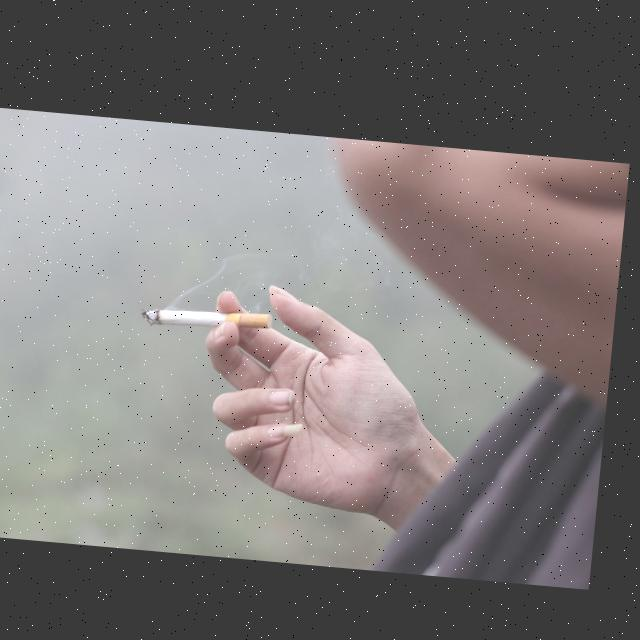cigarette: (146, 300, 279, 331)
